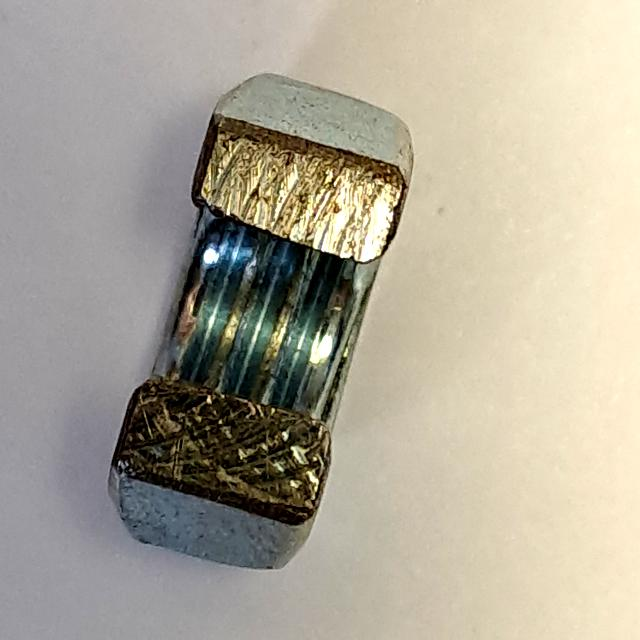Side-Fracture: (87, 60, 429, 583)
